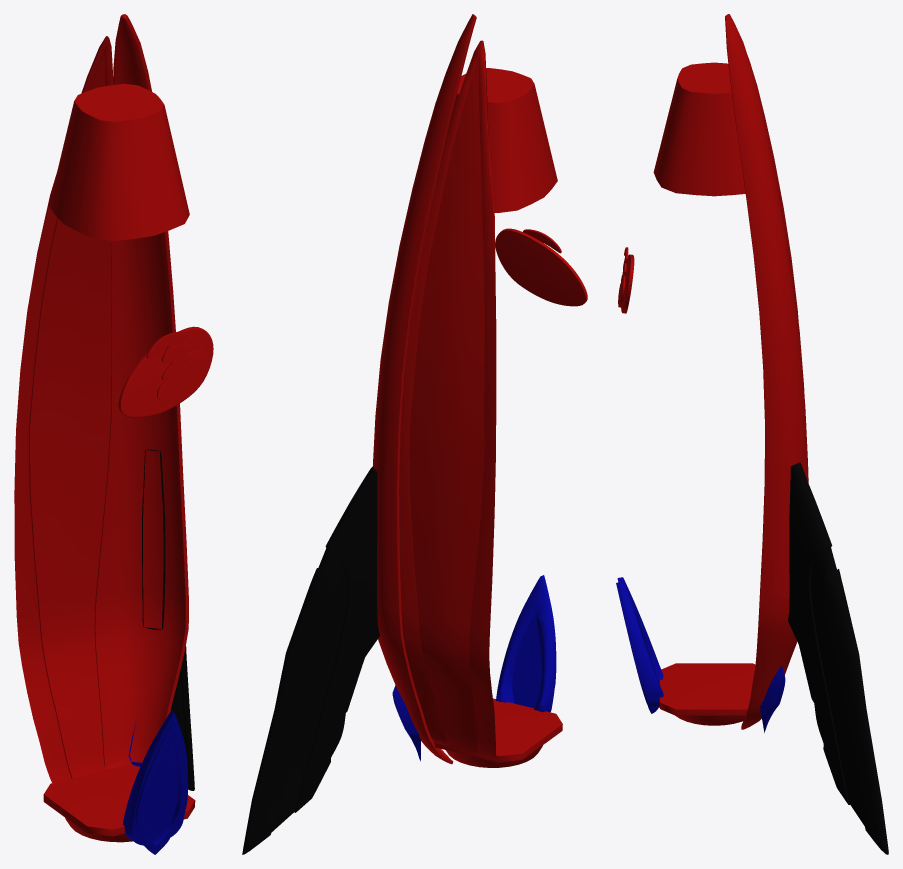
The model's file is RocketBuilding.fbx.
The picture shows the model from 3 angles, left to right: view 1: azimuth 30°, elevation 25°; view 2: azimuth 150°, elevation 25°; view 3: azimuth 270°, elevation 25°; orthographic projection. The views are drawn at different scales.
Parts seen in each view (by area): view 1: window, pillar, wall, roof, floor, gate, logo2, logo1, wing, entrance; view 2: window, wing, wall, pillar, roof, logo2, gate, floor, entrance, nozzle, jewel; view 3: pillar, wing, roof, floor, gate, jewel, nozzle.
Boxes of the visible parts, x1,y1,x2,y2 form: window: [29, 54, 111, 777]; pillar: [113, 14, 188, 766]; wall: [14, 36, 123, 782]; roof: [49, 83, 189, 241]; floor: [43, 765, 195, 836]; gate: [122, 711, 188, 854]; logo2: [118, 326, 213, 417]; logo1: [146, 331, 208, 402]; wing: [142, 449, 194, 790]; entrance: [143, 747, 177, 841]; window: [409, 60, 484, 752]; wing: [242, 466, 379, 854]; wall: [399, 40, 496, 757]; pillar: [372, 14, 476, 764]; roof: [444, 68, 557, 212]; logo2: [495, 228, 587, 306]; gate: [496, 575, 556, 712]; floor: [434, 698, 562, 762]; entrance: [512, 614, 540, 708]; nozzle: [446, 745, 542, 767]; jewel: [392, 685, 420, 761]; pillar: [725, 14, 808, 729]; wing: [788, 462, 888, 854]; roof: [653, 62, 745, 196]; floor: [659, 663, 755, 715]; gate: [616, 577, 663, 713]; jewel: [760, 665, 785, 732]; nozzle: [676, 716, 745, 725].
Size of the model in its own units: 206 by 761 by 244.
